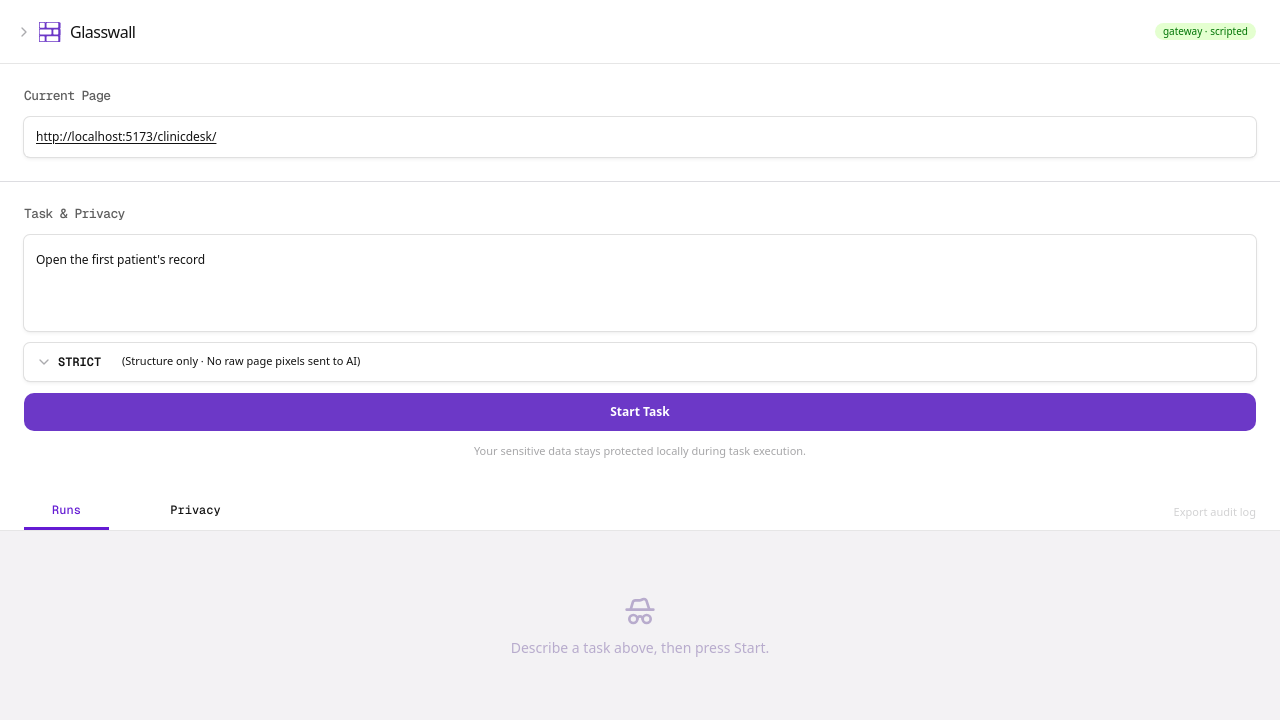
side panel › privacy tab renders the inspector with the latest step
Click the tab "Privacy".
click(196, 516)  # box [153, 503, 238, 530]
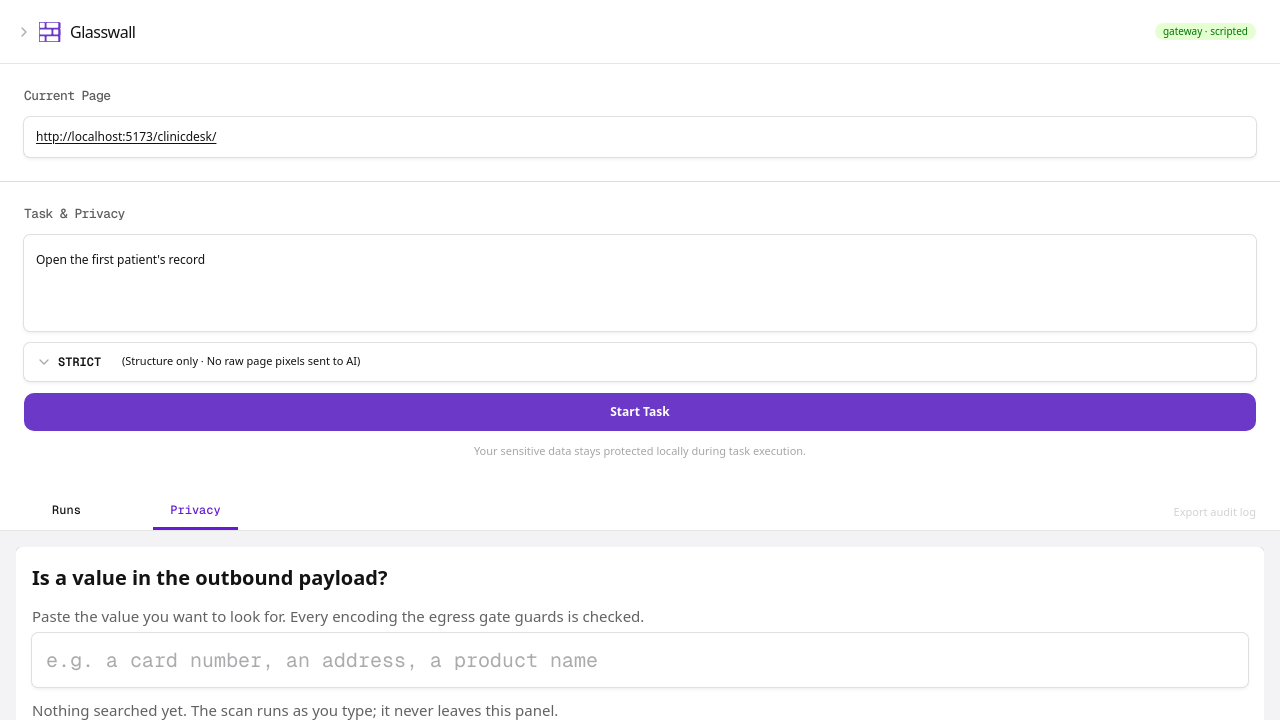
Expected: the heading "Is a value in the outbound payload?" is shown, [32, 564, 388, 591]
